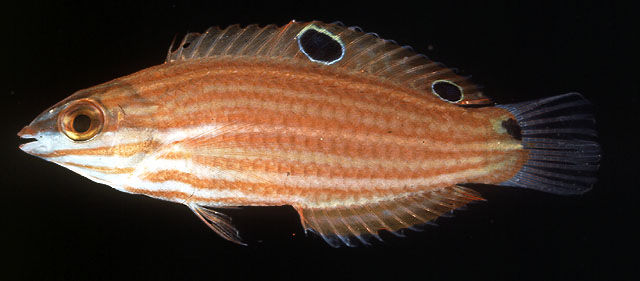fish: (18, 19, 603, 248)
